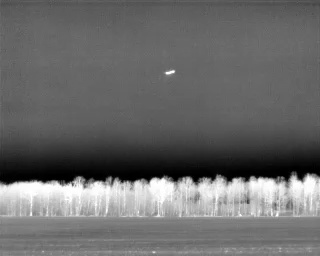DRONE: (162, 65, 179, 79)
